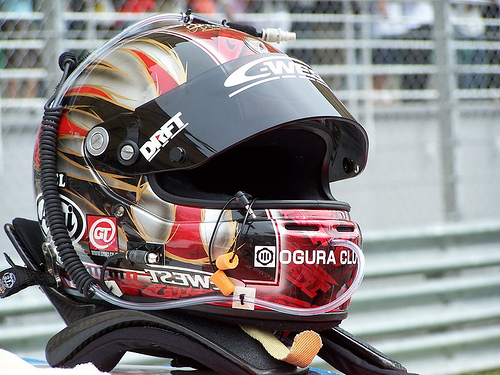helmet: (61, 38, 354, 302)
